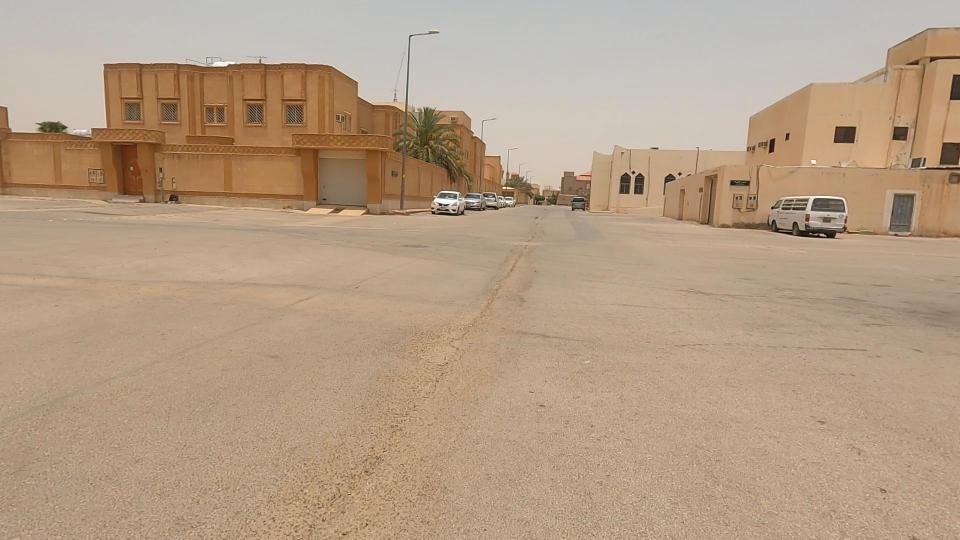POTHOLES: (372, 301, 501, 447), (442, 273, 519, 366), (466, 229, 541, 305)
